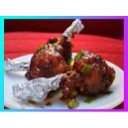chicken_lollipop: (50, 52, 120, 107), (26, 17, 77, 73)
